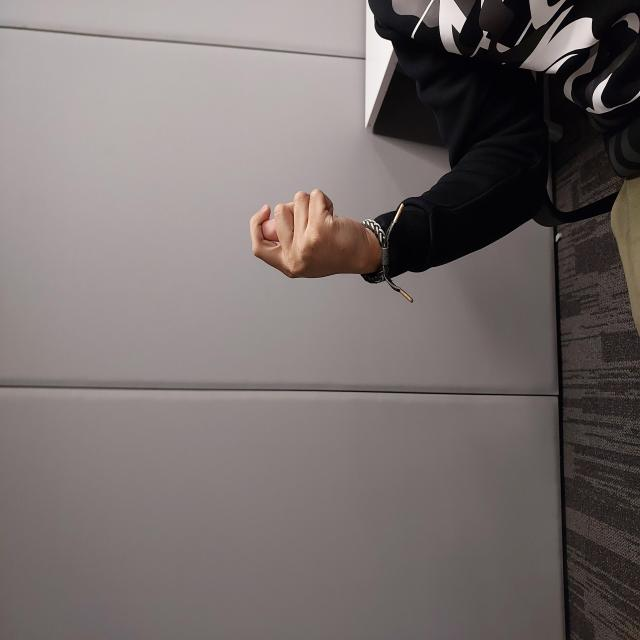T: (361, 249, 453, 370)
